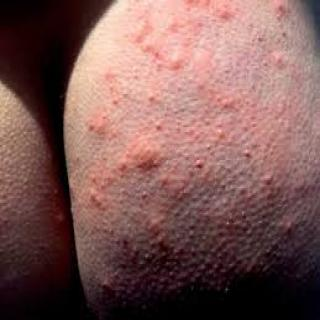urticaria: (179, 87, 264, 174), (135, 176, 219, 255), (225, 184, 302, 261), (82, 152, 130, 250), (95, 264, 217, 296), (130, 15, 196, 68), (135, 78, 166, 133), (258, 38, 298, 76), (78, 106, 122, 133), (132, 138, 167, 170), (212, 5, 245, 26), (270, 6, 292, 24)
